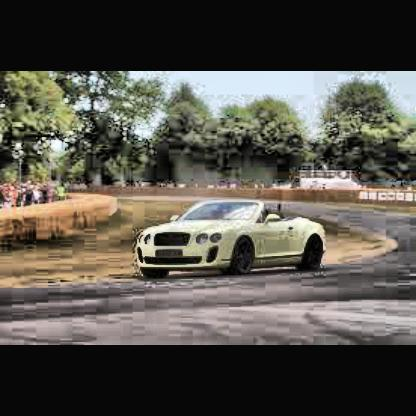Bentley Continental Supersports Conv- Convertible 2012: (136, 196, 331, 284)
